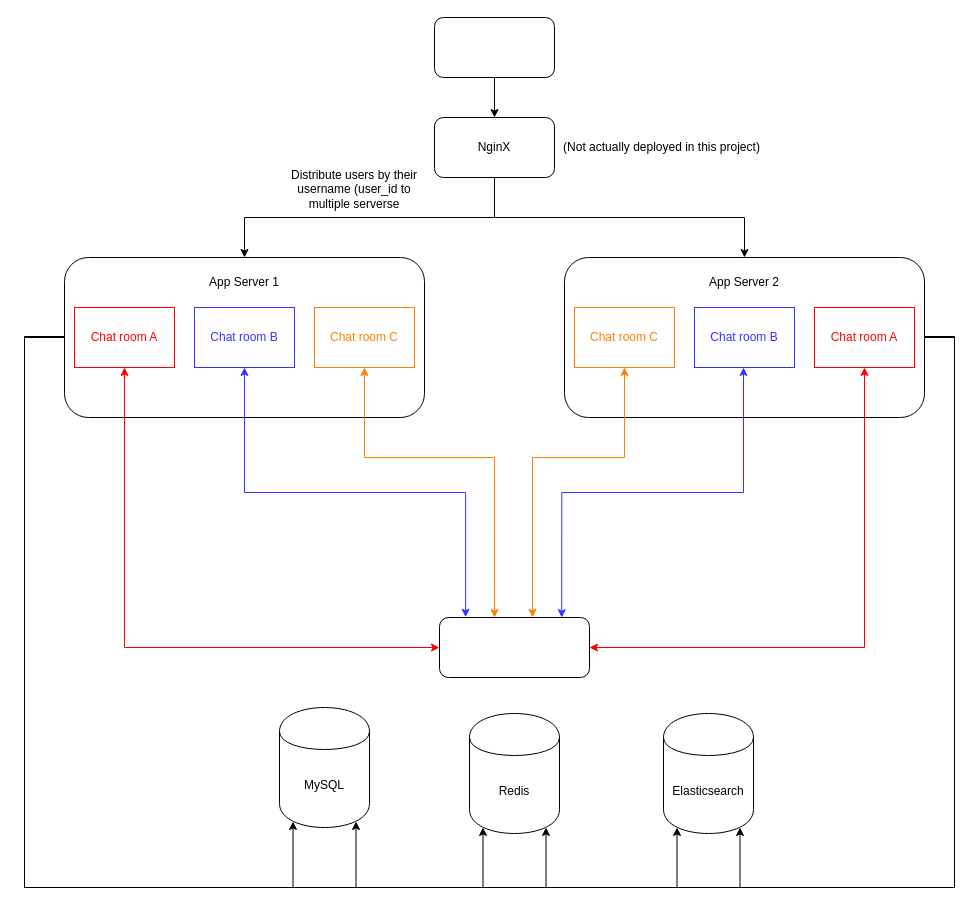
Image size: 980x913. Some labels were removed from this diagram. Here are the shapes that lost their labels. From the top down, the box of each, then its label:
(434, 16, 554, 78): Client
(438, 616, 590, 678): Pub/Sub Broker (Redis)
